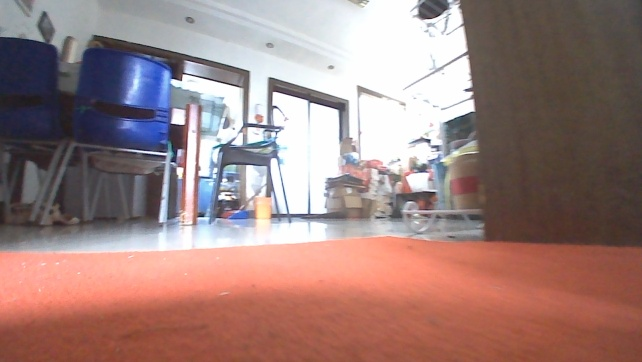blanket: (0, 227, 641, 361)
dining_table: (0, 32, 230, 225)
